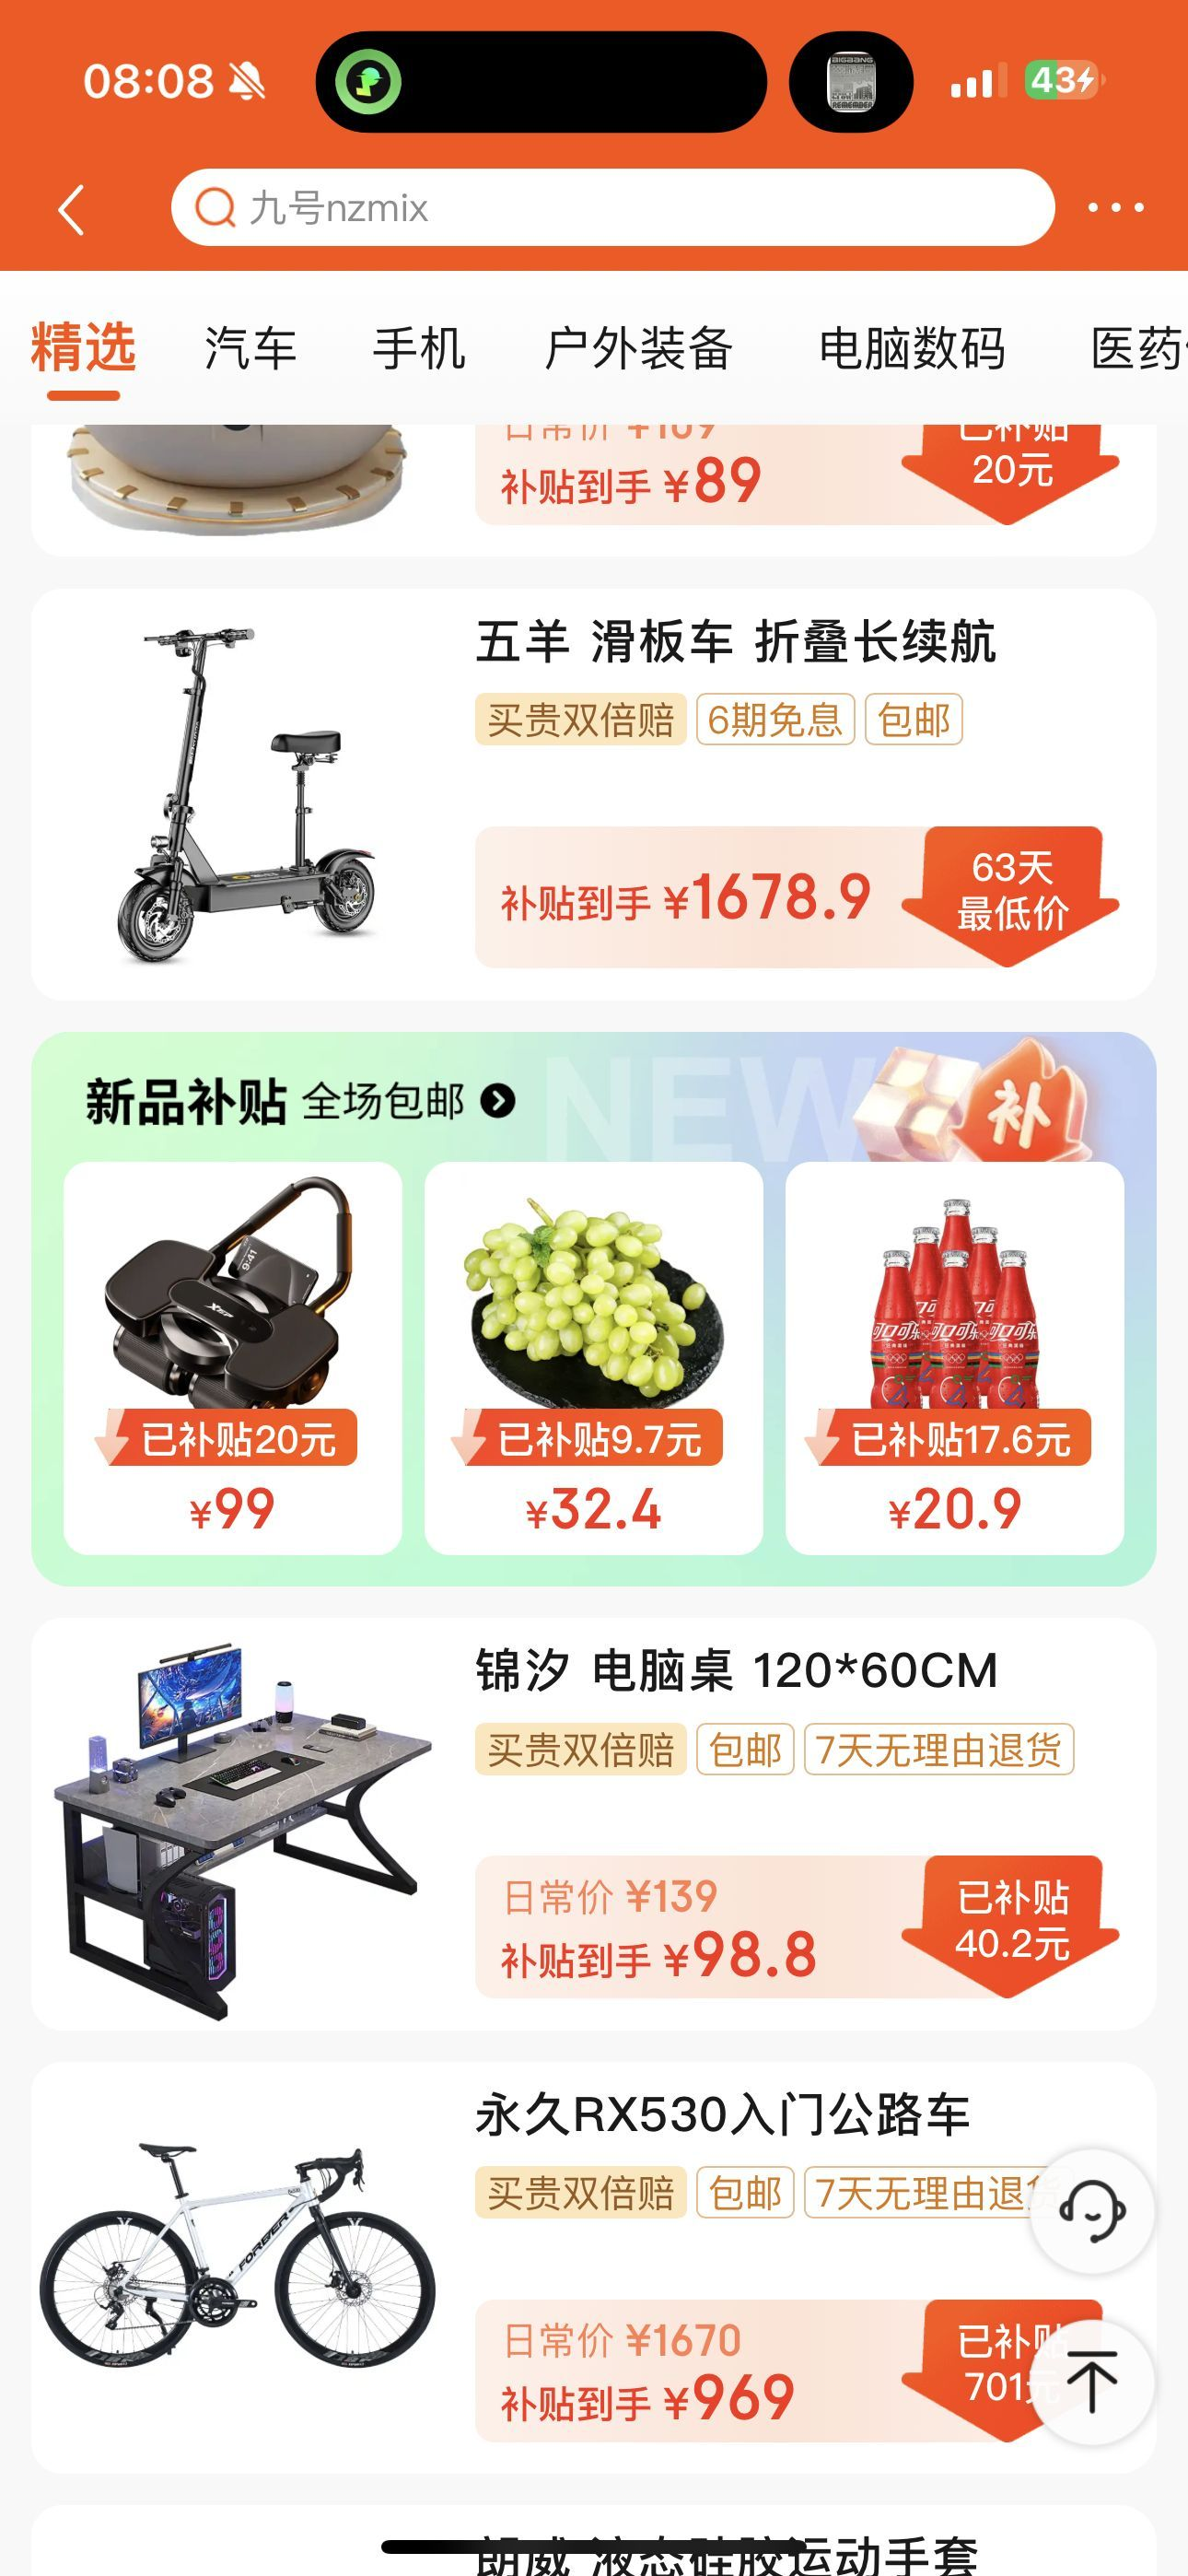banner: (33, 1027, 1162, 1587)
item: (20, 2063, 1167, 2482), (28, 1610, 1165, 2029), (28, 588, 1163, 1007)
op_bar: (13, 143, 1185, 266)
